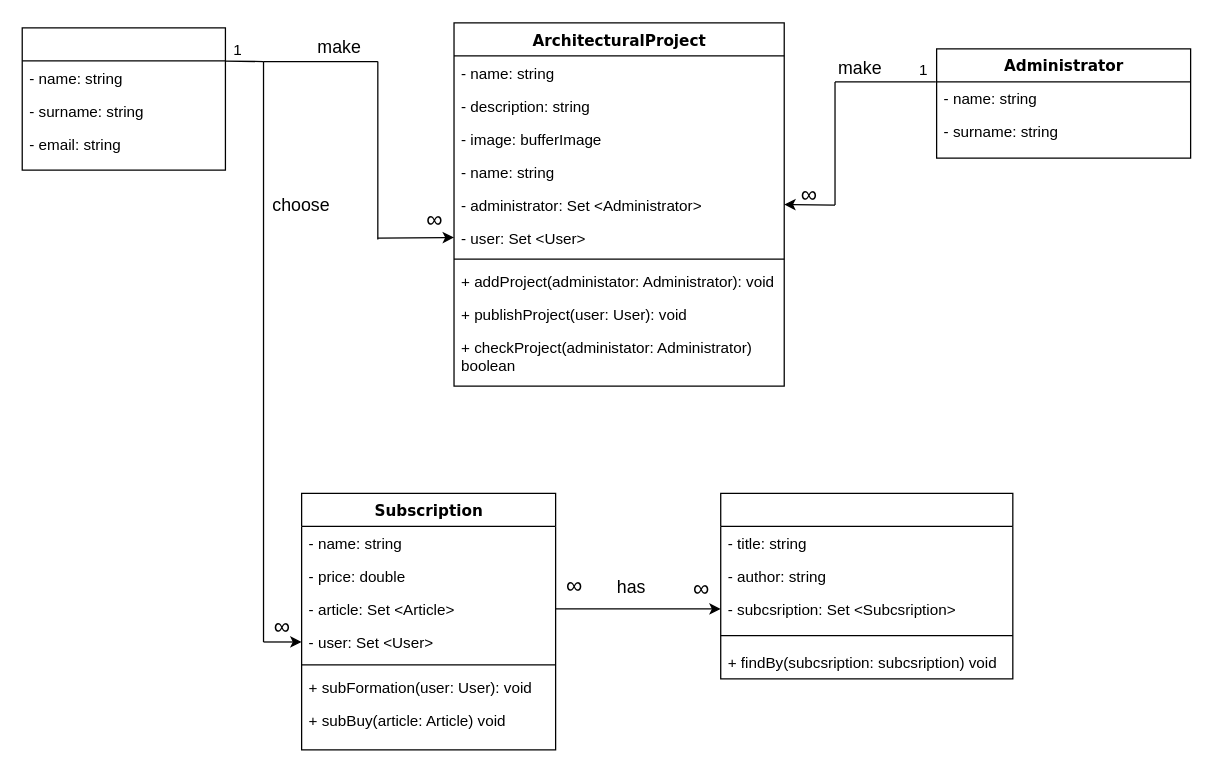
The diagram is 1213 pixels wide and 772 high, and some of its shapes have lost their labels. The shapes that lost their labels are listed below. From the top down, each one's box as (x1, y1, x2, y2) in pixels, then its label:
(21, 27, 225, 170): User
(719, 492, 1013, 679): Article
